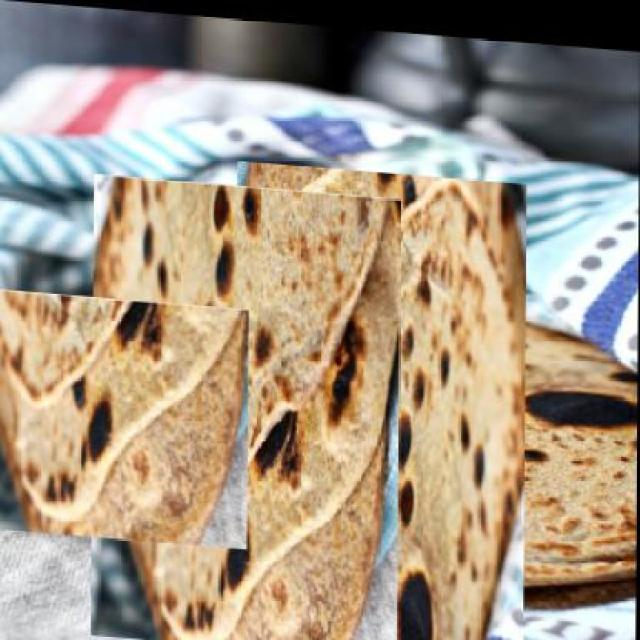chapati: (179, 208, 584, 635), (54, 209, 441, 620), (0, 283, 246, 552)
